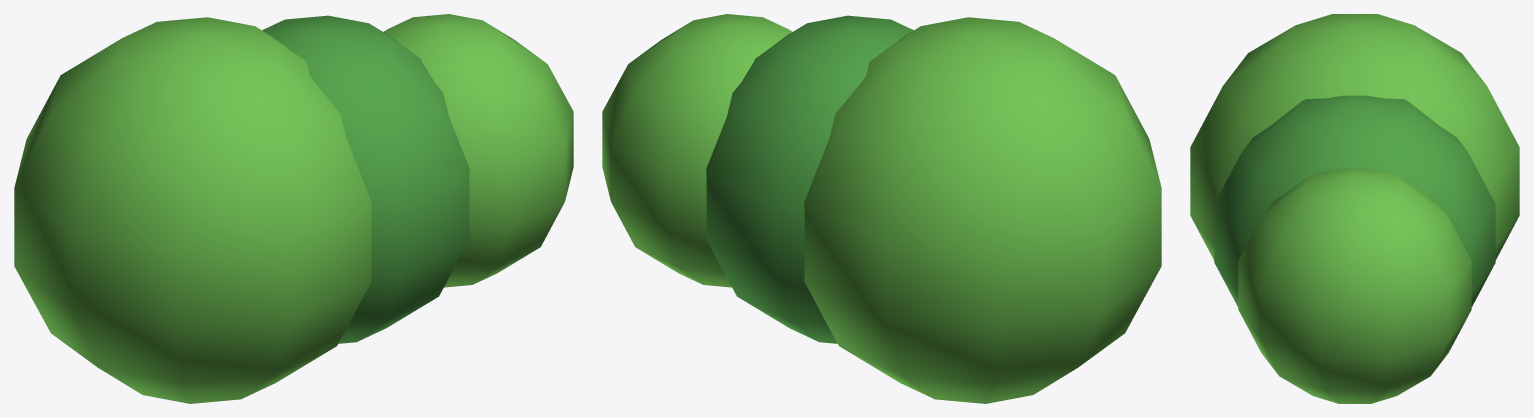
The model's file is bush.gltf.
3 renders of one model, left to right at view 1: azimuth 30°, elevation 25°; view 2: azimuth 150°, elevation 25°; view 3: azimuth 270°, elevation 25°, orthographic. The views are drawn at different scales.
Visible parts, largest first — view 1: bush_mesh; view 2: bush_mesh; view 3: bush_mesh.
Boxes of the visible parts, box(x1,y1,x2,y2) form: bush_mesh: box(14, 14, 573, 403); bush_mesh: box(602, 14, 1161, 403); bush_mesh: box(1190, 14, 1519, 403).
Bounding box in the file's own units: 1.67 × 1.1 × 1.07.
